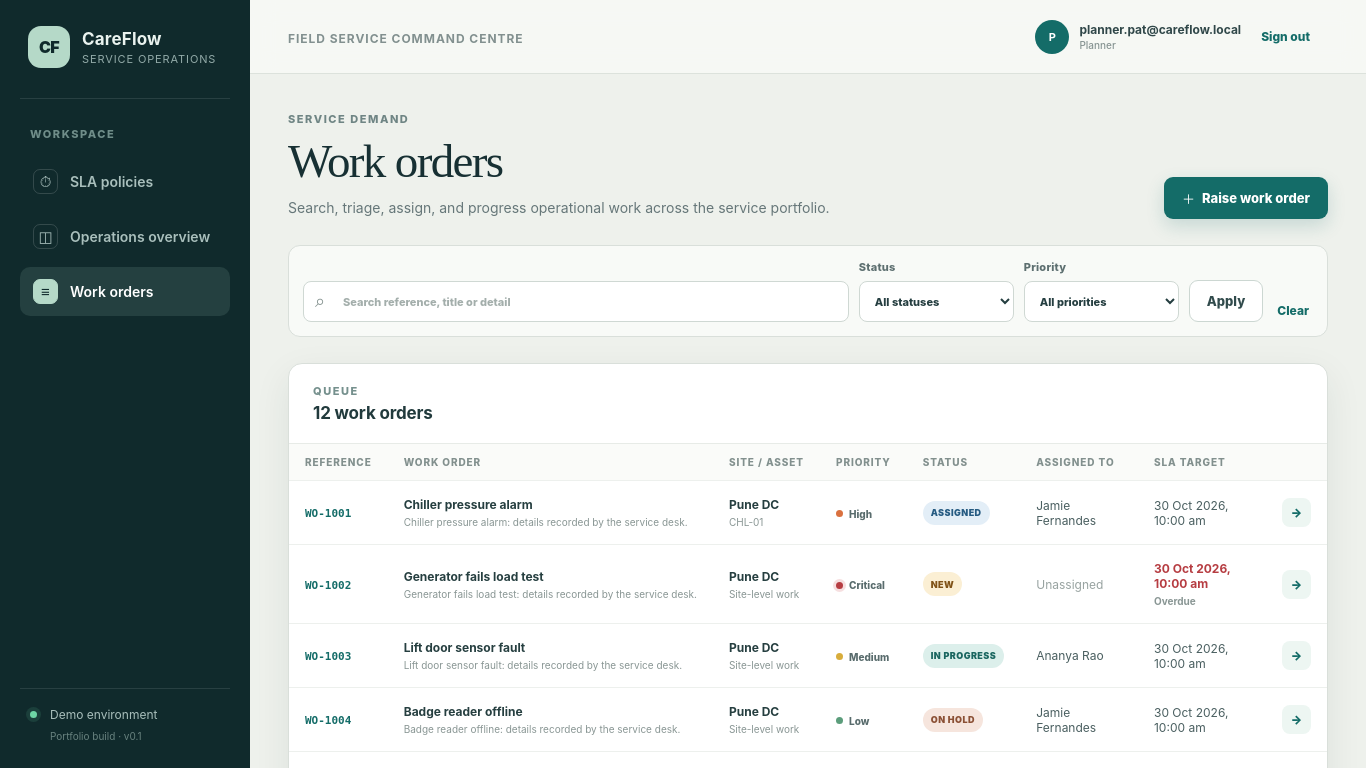
Test: Work orders list (MSW) › shows the empty state when nothing matches
The width and height of the screenshot is (1366, 768).
Type "no such work order" into the field with placeholder "Search reference, title or detail" at (576,302), box [303,281,849,322]
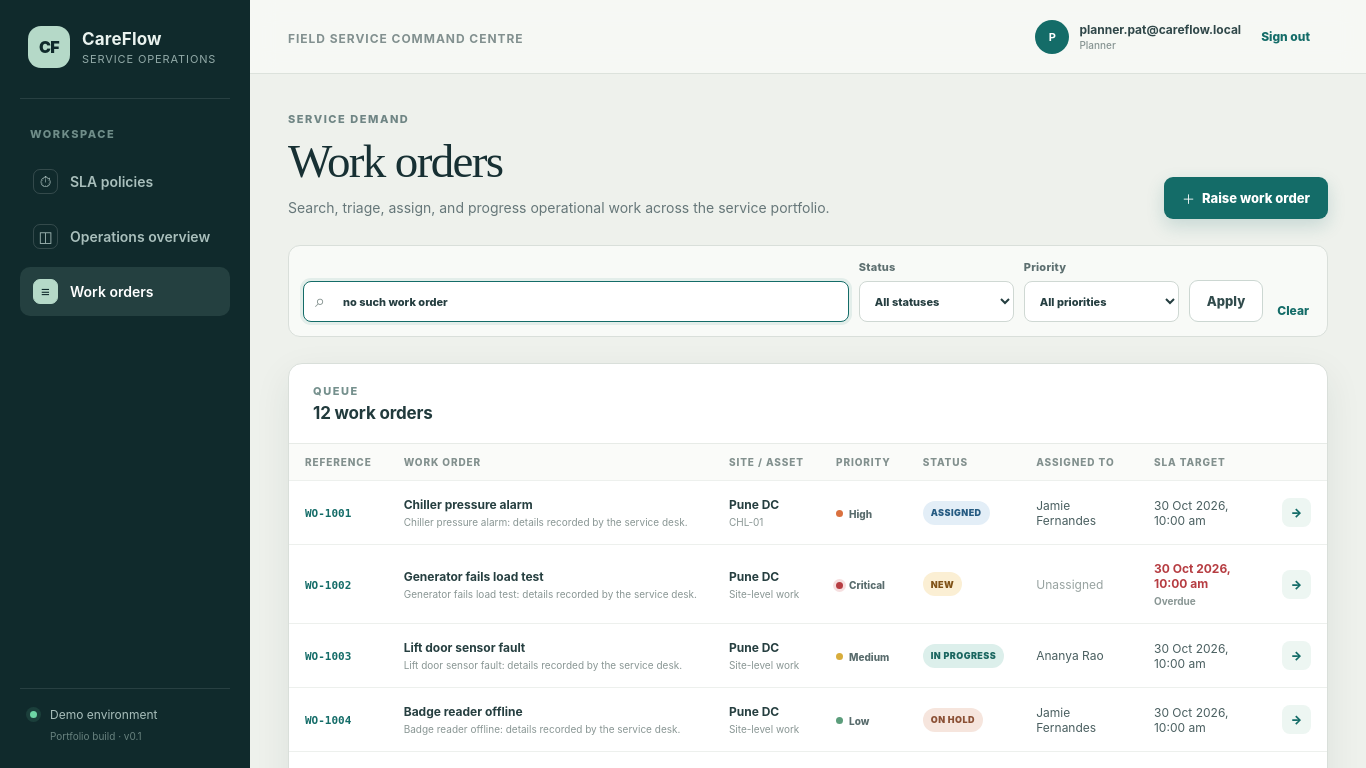
Click the button "Apply" at (1226,301), box [1189,280,1263,322]
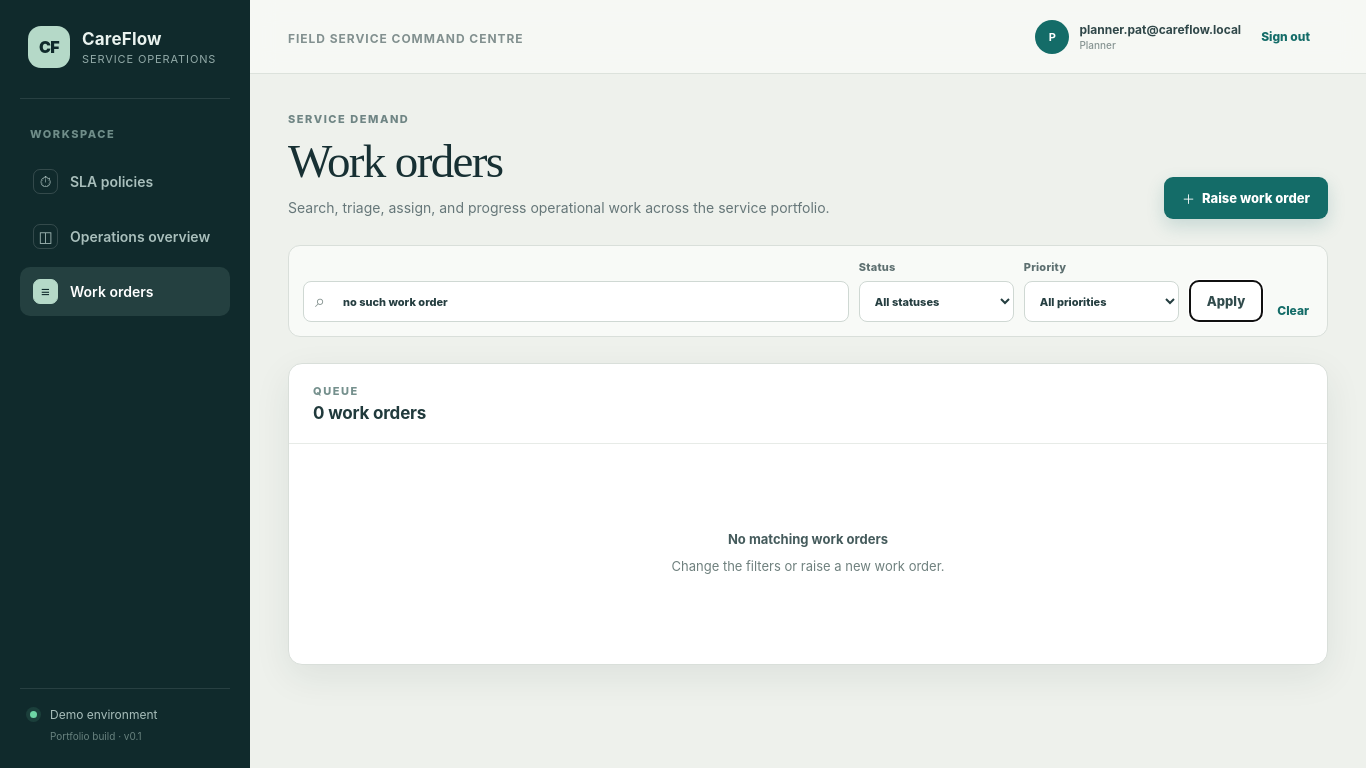
Now the text "No matching work orders" is shown, box [728,531,888,547]
